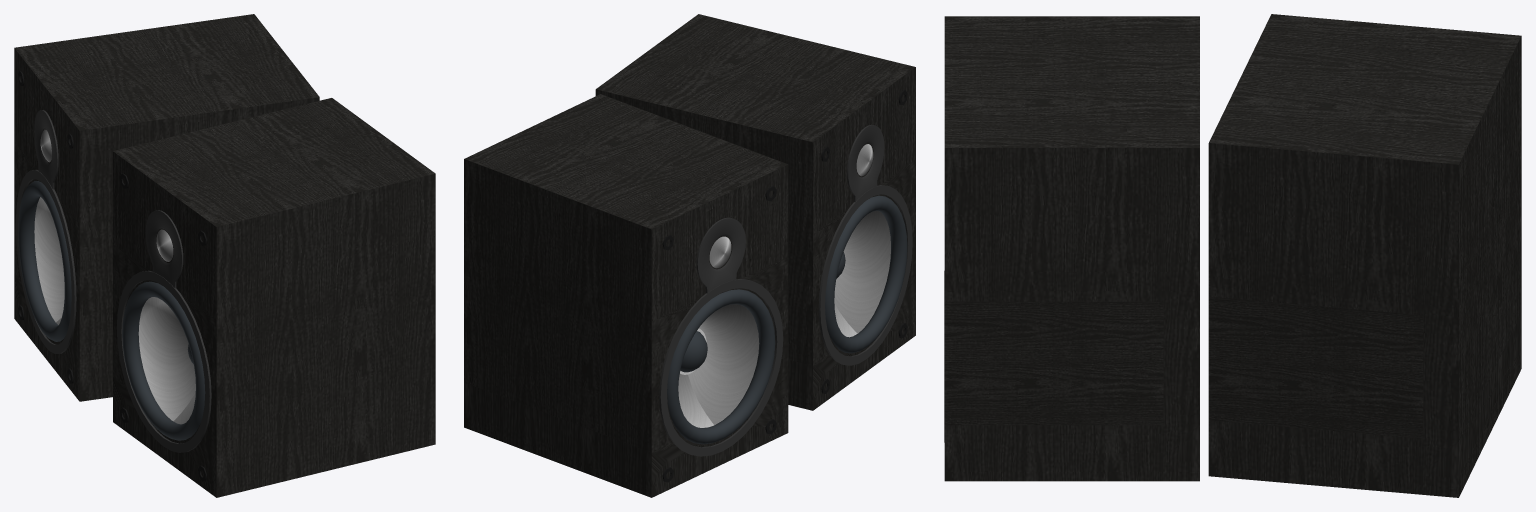
The model's file is 髻ｳ螢ｰ蜃ｦ逅・CASSE.fbx.
3 views of the same model, side by side, from view 1: azimuth 30°, elevation 25°; view 2: azimuth 150°, elevation 25°; view 3: azimuth 270°, elevation 25° (orthographic). The views are drawn at different scales.
Parts seen in each view (by area): view 1: CASSA, CASSA_1, Oil_Tank, Torus, Torus_1, Tube, Oil_Tank_1, Tube_7, Tube_1, Tube_8; view 2: CASSA_1, CASSA, Oil_Tank_1, Torus_1, Oil_Tank, Torus, Tube_7, Tube, Tube_8, Tube_1, Sphere_2, Sphere_3; view 3: CASSA_1, CASSA, Plane, Plane_1.
Part boxes in pixels (x1,y1,x2,y2): CASSA: (113, 98, 435, 497); CASSA_1: (14, 14, 319, 401); Oil_Tank: (138, 297, 195, 424); Torus: (122, 281, 205, 440); Torus_1: (18, 181, 71, 341); Tube: (116, 270, 211, 452); Oil_Tank_1: (34, 197, 64, 324); Tube_7: (16, 169, 76, 353); Tube_1: (145, 210, 183, 288); Tube_8: (34, 110, 58, 189); CASSA_1: (464, 94, 788, 497); CASSA: (595, 14, 915, 410); Oil_Tank_1: (678, 304, 759, 427); Torus_1: (667, 289, 775, 444); Oil_Tank: (834, 211, 890, 337); Torus: (825, 195, 907, 353); Tube_7: (659, 279, 783, 456); Tube: (818, 185, 912, 365); Tube_8: (696, 217, 745, 293); Tube_1: (846, 124, 884, 202); Sphere_2: (680, 331, 707, 372); Sphere_3: (709, 236, 731, 268); CASSA_1: (1208, 14, 1521, 497); CASSA: (944, 16, 1199, 481); Plane: (944, 271, 1163, 442); Plane_1: (1208, 265, 1423, 438).
Size of the model in its own units: 353 by 364 by 570.
5 materials, 2 textured.
